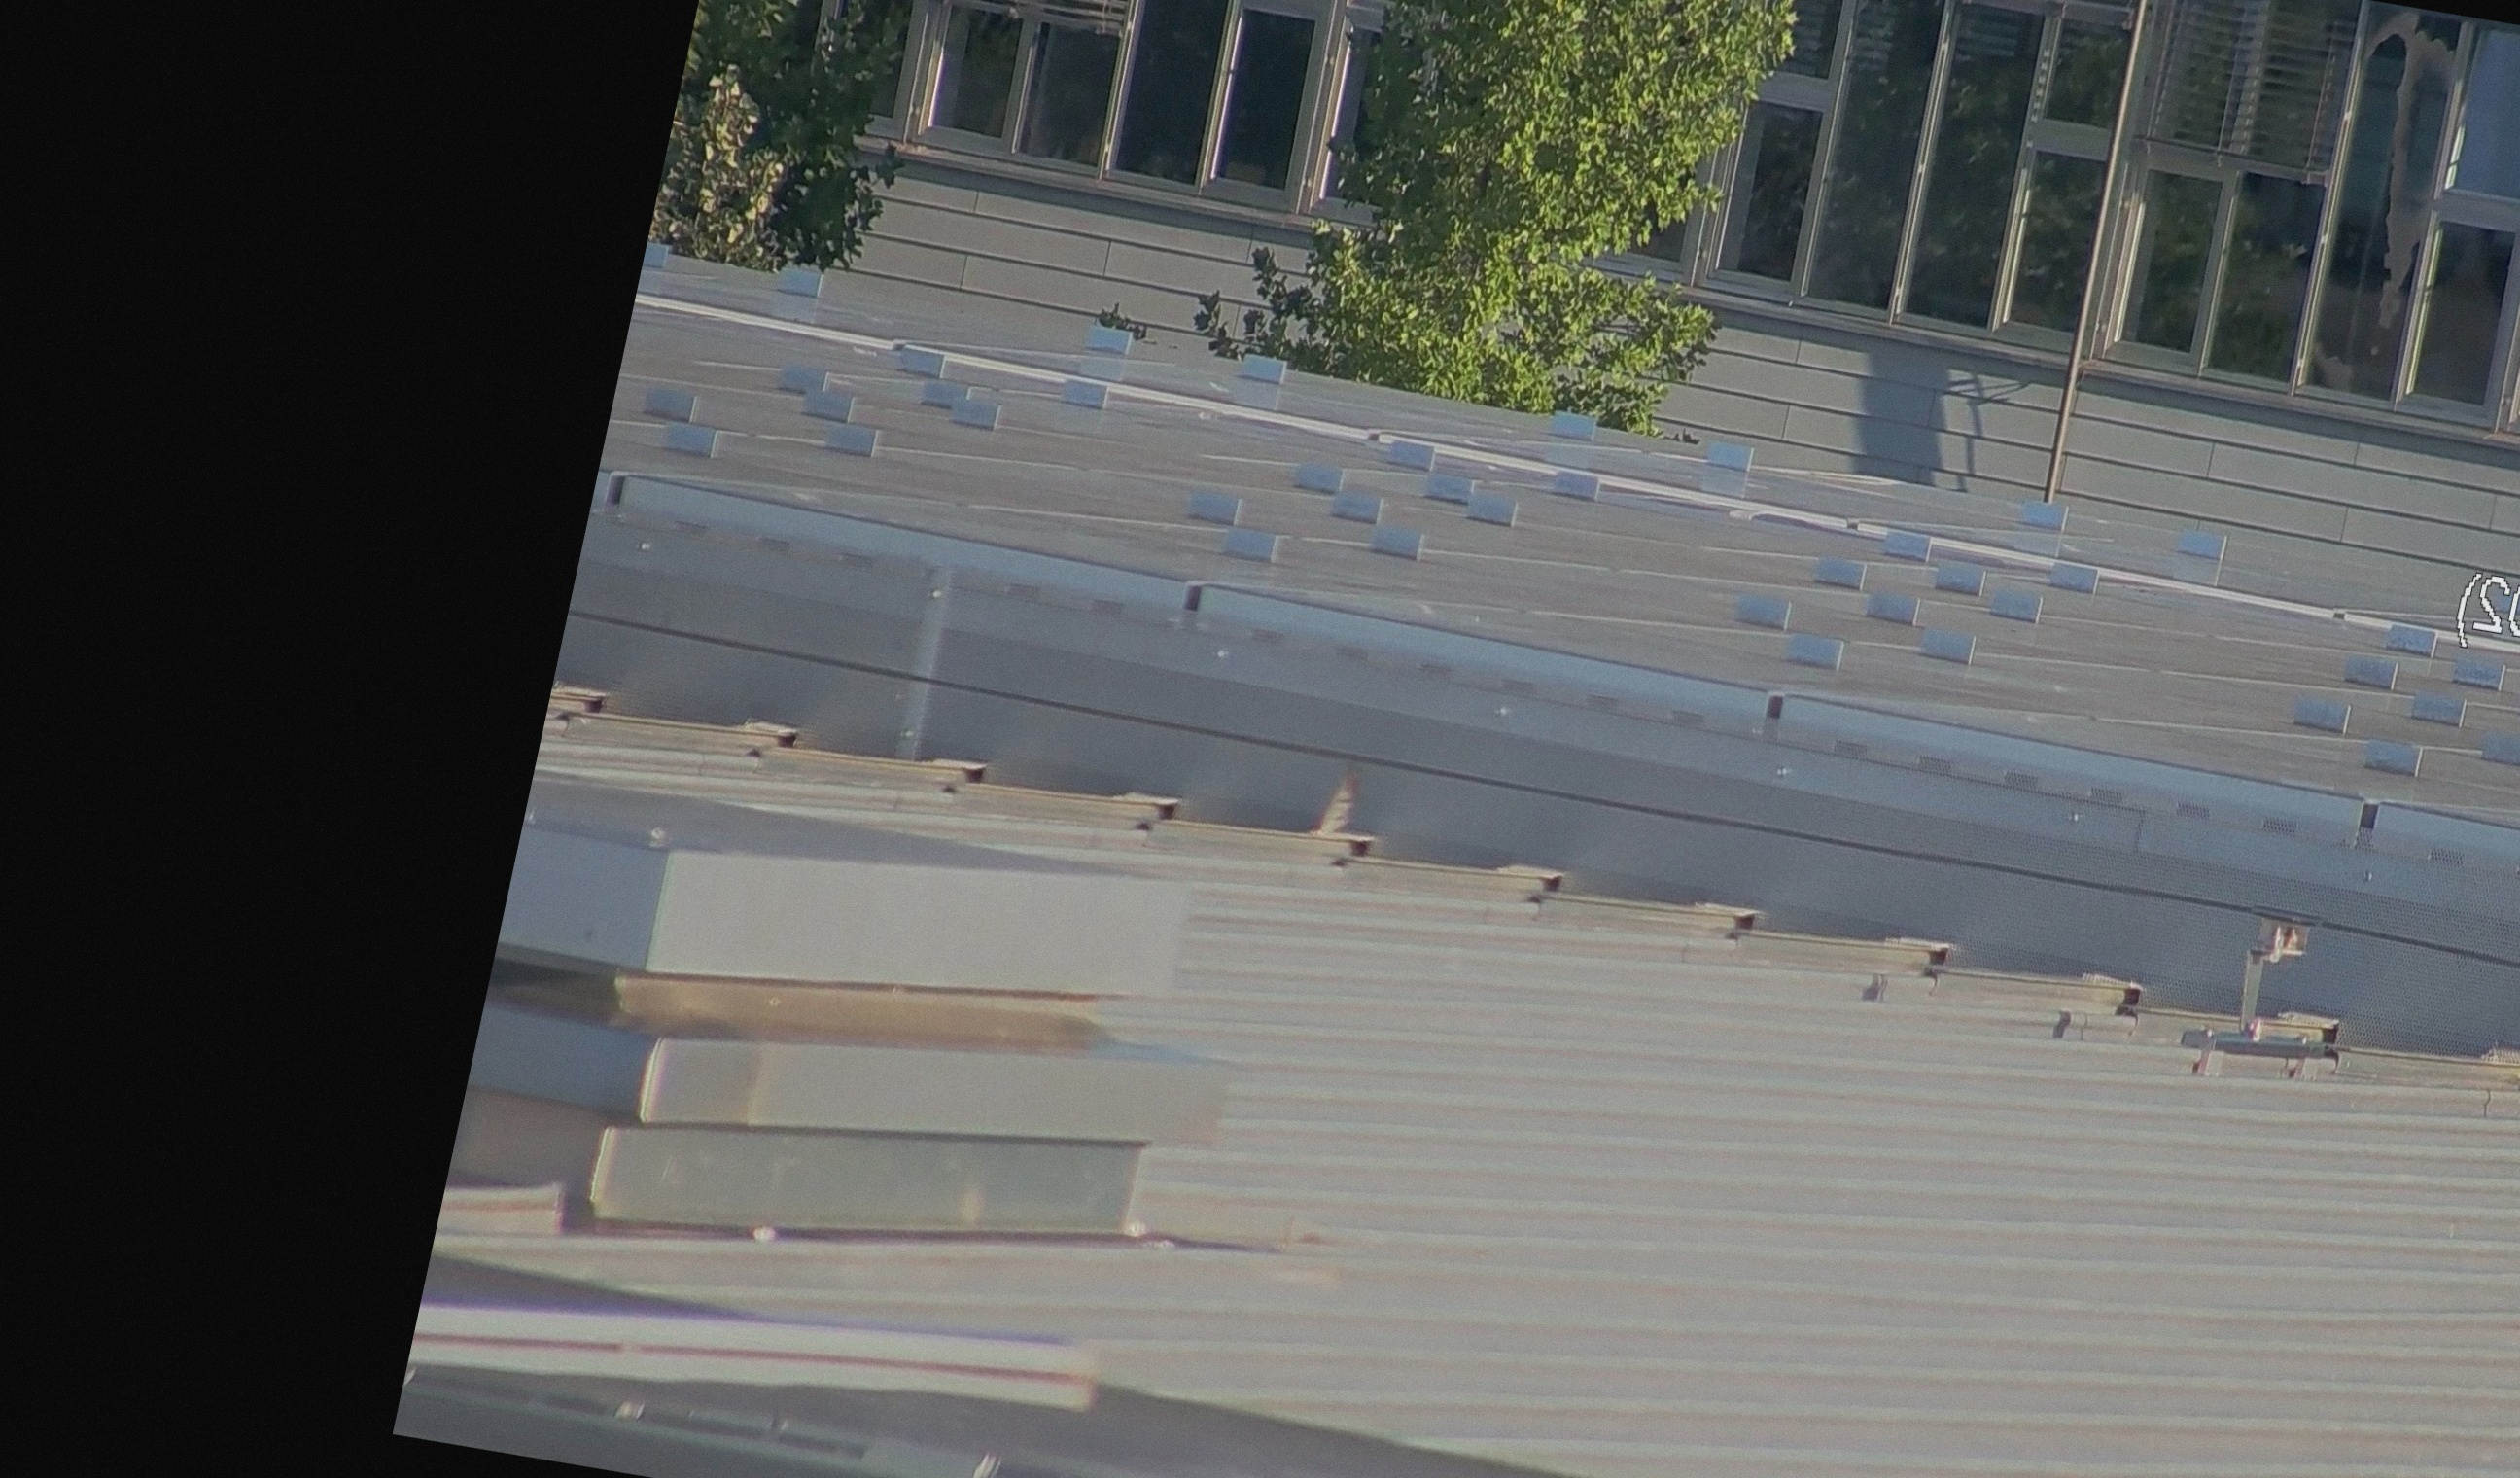Other: (1291, 746, 1387, 880)
